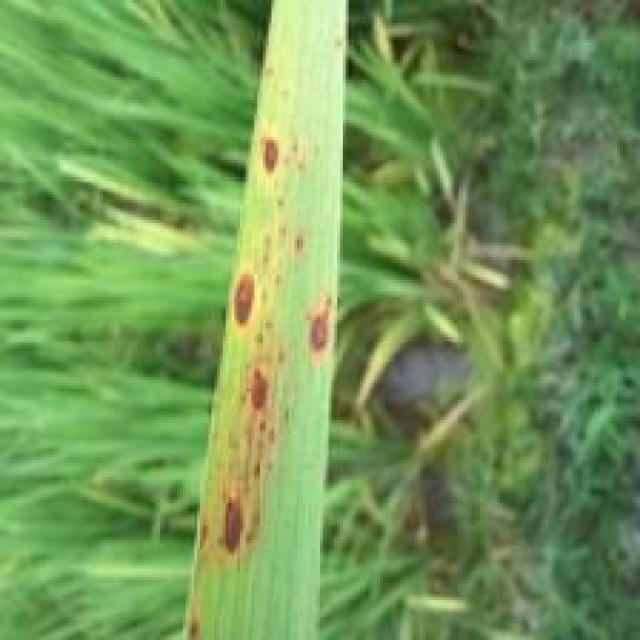Brown_Spot: (304, 297, 334, 369), (228, 269, 256, 334), (220, 494, 242, 563), (245, 368, 273, 419), (257, 133, 282, 182), (185, 614, 201, 640), (292, 229, 306, 256)
